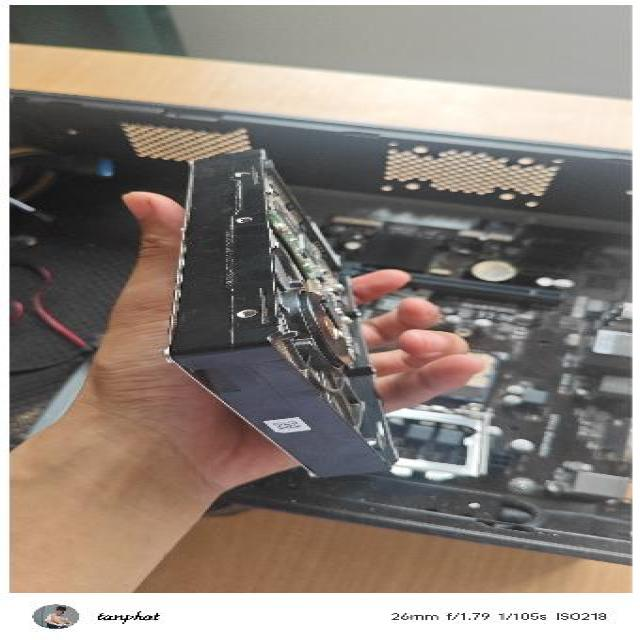DISK: (152, 145, 408, 480)
